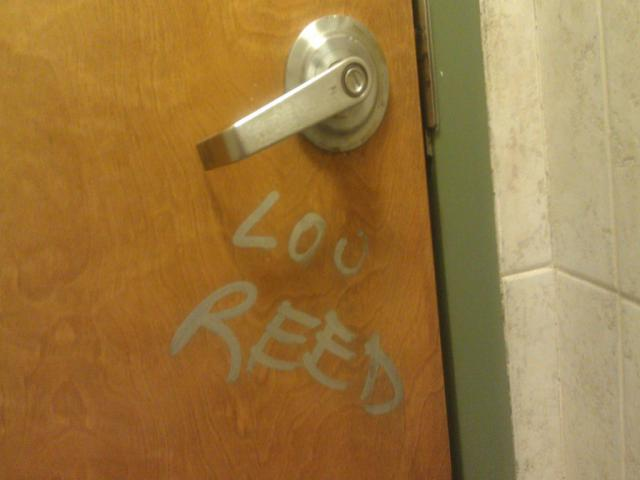Door-handle: (195, 12, 391, 169)
